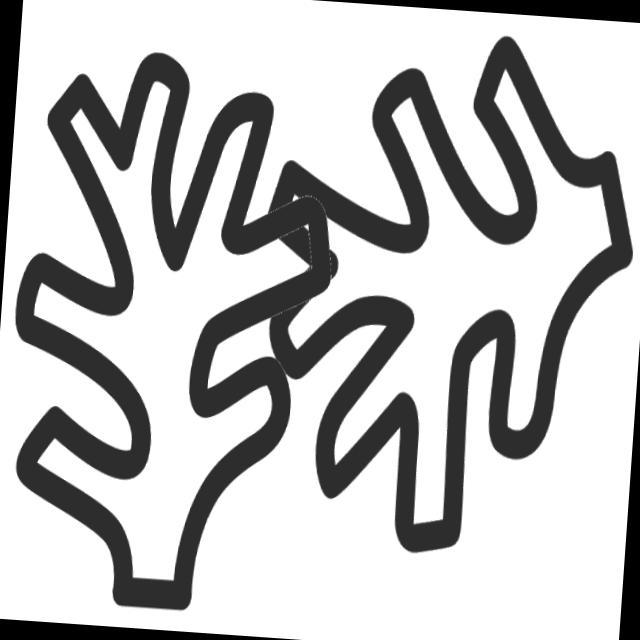coral: (235, 19, 640, 573), (1, 22, 352, 630)
